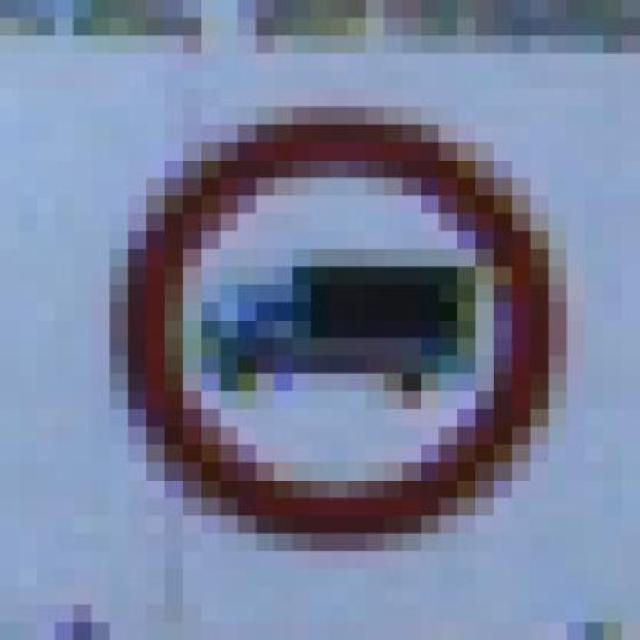Truck traffic is prohibited: (54, 107, 586, 551)
